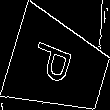P_E: (33, 41, 84, 91)
